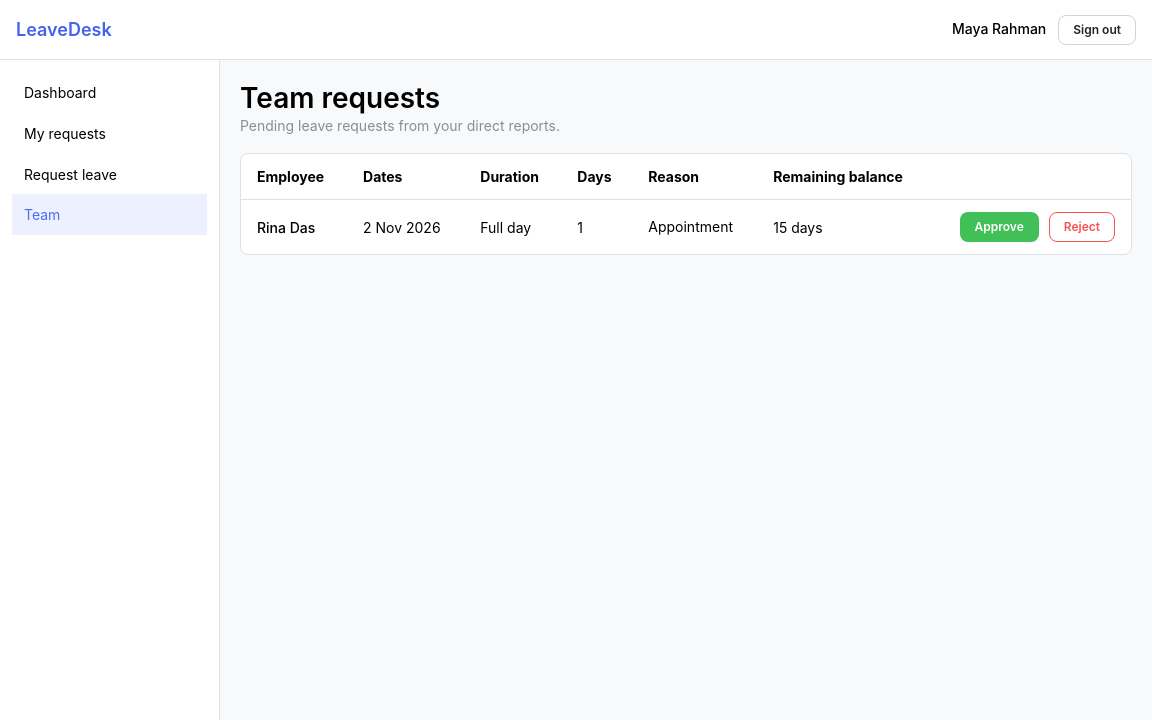
Test case: dialogs accessibility › approve dialog has no axe violations and a labelled comment field
Click the button with aria-label "approve request from". click: (999, 227)
box: [960,212,1039,242]
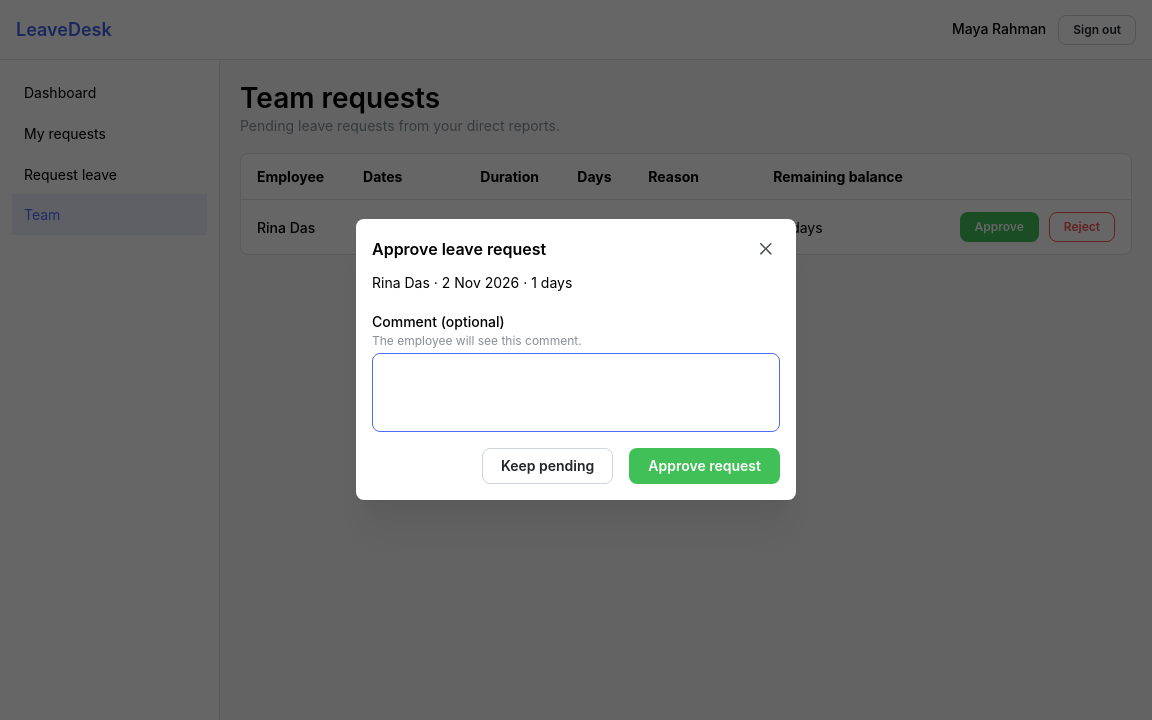
Now the text box labelled "Comment (optional)" is shown, box [372,354,780,433]
